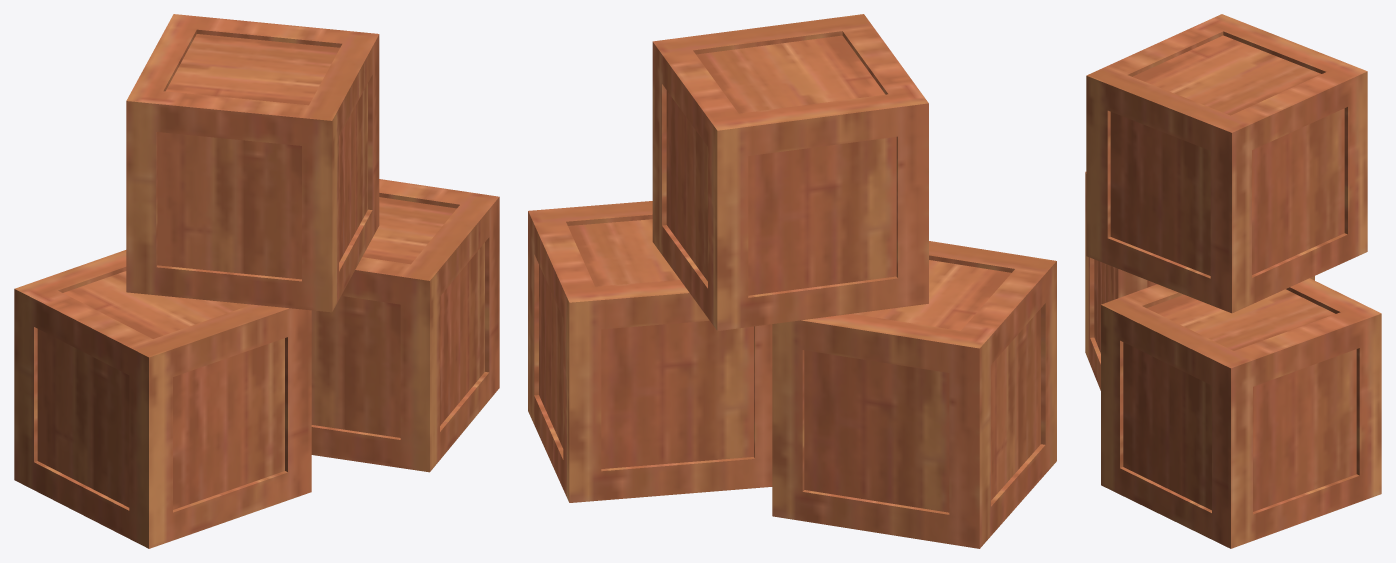
Rendered from wood_box.fbx.
3 views of the same model, side by side, from view 1: azimuth 30°, elevation 25°; view 2: azimuth 150°, elevation 25°; view 3: azimuth 270°, elevation 25° (orthographic). The views are drawn at different scales.
Visible parts, largest first — view 1: wood_box; view 2: wood_box; view 3: wood_box.
Boxes of the visible parts, x1,y1,x2,y2 form: wood_box: [14, 14, 499, 548]; wood_box: [528, 14, 1056, 548]; wood_box: [1085, 14, 1381, 548].
Size of the model in its own units: 185 by 148 by 110.
1 material, 1 textured.
